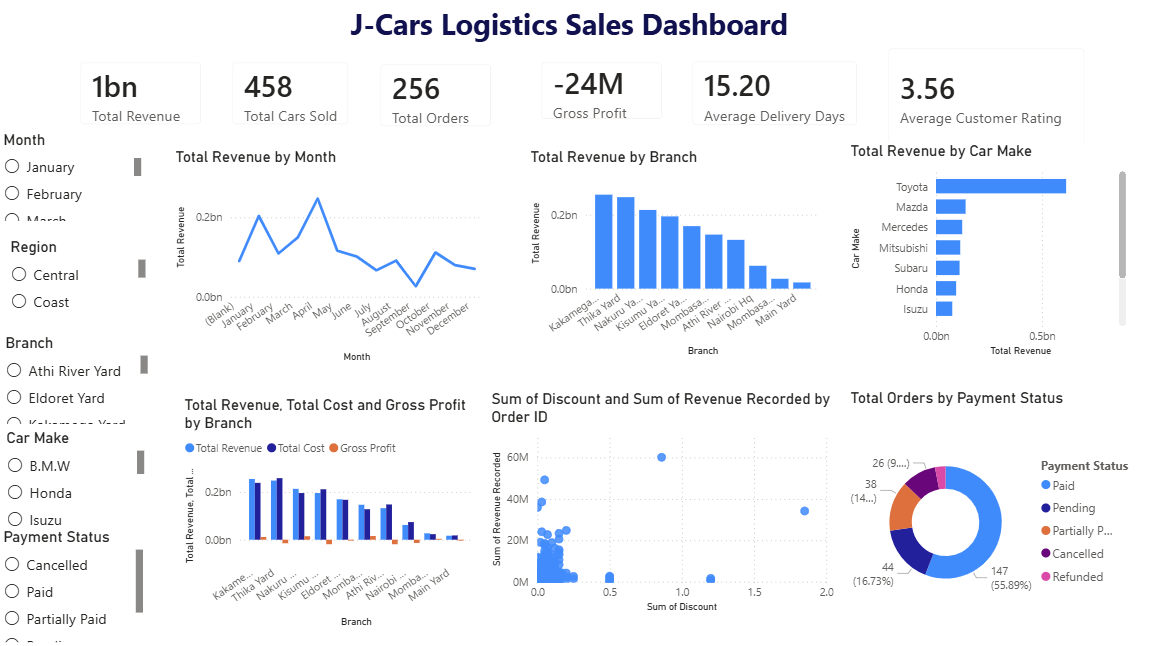

The page's visual inventory and layout, read from the dashboard file:
{"tool":"powerbi","page":{"name":"Dashboard","canvas":[1280,720],"ordinal":4},"visuals":[{"type":"textbox","box":[10,0,1247.5,53.8],"z":0},{"type":"cardVisual","fields":{"Data":["powerbi jcars.Total Revenue"]},"box":[73.8,53.8,168.8,103.8],"z":1000},{"type":"cardVisual","fields":{"Data":["powerbi jcars.Total Cars Sold"]},"box":[242.5,53.8,163.8,103.8],"z":2000},{"type":"cardVisual","fields":{"Data":["powerbi jcars.Total Orders"]},"box":[406.2,55,157.5,103.8],"z":3000},{"type":"cardVisual","fields":{"Data":["powerbi jcars.Gross Profit"]},"box":[585,53.8,168.8,97.5],"z":4000},{"type":"cardVisual","fields":{"Data":["powerbi jcars.Average Delivery Days"]},"box":[753.8,52.5,217.5,105],"z":5000},{"type":"cardVisual","fields":{"Data":["powerbi jcars.Average Customer Rating"]},"box":[971.1,37.8,252.2,140],"z":6000},{"type":"listSlicer","fields":{"Values":["powerbi jcars.Region"]},"box":[7.5,265,160,95],"z":7000},{"type":"listSlicer","fields":{"Values":["powerbi jcars.Branch"]},"box":[2.5,372.5,168.8,105],"z":8000},{"type":"listSlicer","fields":{"Values":["powerbi jcars.Car Make"]},"box":[3.8,477.5,163.8,118.8],"z":9000},{"type":"listSlicer","fields":{"Values":["powerbi jcars.Order Date 1.Variation.Date Hierarchy.Month"]},"box":[0,146.2,163.8,105],"z":10000},{"type":"listSlicer","fields":{"Values":["powerbi jcars.Payment Status"]},"box":[0,587.5,165,132.5],"z":11000},{"type":"barChart","fields":{"Category":["powerbi jcars.Car Make"],"Y":["powerbi jcars.Total Revenue"]},"box":[941.2,158.8,316.2,242.5],"z":12000},{"type":"clusteredColumnChart","fields":{"Category":["powerbi jcars.Branch"],"Y":["powerbi jcars.Total Revenue","powerbi jcars.Total Cost","powerbi jcars.Gross Profit"]},"box":[201.2,441.2,330,261.2],"z":13000},{"type":"donutChart","fields":{"Y":["powerbi jcars.Total Orders"],"Category":["powerbi jcars.Payment Status"]},"box":[941.2,433.8,326.2,277.5],"z":14000},{"type":"lineChart","fields":{"Category":["powerbi jcars.Order Date 1.Variation.Date Hierarchy.Month"],"Y":["powerbi jcars.Total Revenue"]},"box":[191.1,165.6,351.1,242.2],"z":15000},{"type":"columnChart","fields":{"Y":["powerbi jcars.Total Revenue"],"Category":["powerbi jcars.Branch"]},"box":[585,165,331.2,236.2],"z":16000},{"type":"scatterChart","fields":{"X":["Sum(powerbi jcars.Discount)"],"Y":["Sum(powerbi jcars.Revenue Recorded)"],"Category":["powerbi jcars.Order ID"]},"box":[542,434,390,252],"z":17000}]}

Visuals, with their boxes in screenshot pixels (x1, y1, x2, y2), scaled from the page's 1280x720 canvas onto the 1149x646 screenshot:
textbox: x1=9 y1=0 x2=1129 y2=48
cardVisual - powerbi jcars.Total Revenue: x1=66 y1=48 x2=218 y2=141
cardVisual - powerbi jcars.Total Cars Sold: x1=218 y1=48 x2=365 y2=141
cardVisual - powerbi jcars.Total Orders: x1=365 y1=49 x2=506 y2=142
cardVisual - powerbi jcars.Gross Profit: x1=525 y1=48 x2=677 y2=136
cardVisual - powerbi jcars.Average Delivery Days: x1=677 y1=47 x2=872 y2=141
cardVisual - powerbi jcars.Average Customer Rating: x1=872 y1=34 x2=1098 y2=160
listSlicer - powerbi jcars.Region: x1=7 y1=238 x2=150 y2=323
listSlicer - powerbi jcars.Branch: x1=2 y1=334 x2=154 y2=428
listSlicer - powerbi jcars.Car Make: x1=3 y1=428 x2=150 y2=535
listSlicer - powerbi jcars.Order Date 1.Variation.Date Hierarchy.Month: x1=0 y1=131 x2=147 y2=225
listSlicer - powerbi jcars.Payment Status: x1=0 y1=527 x2=148 y2=645
barChart - powerbi jcars.Car Make x powerbi jcars.Total Revenue: x1=845 y1=142 x2=1129 y2=360
clusteredColumnChart - powerbi jcars.Branch x powerbi jcars.Total Revenue: x1=181 y1=396 x2=477 y2=630
donutChart - powerbi jcars.Total Orders x powerbi jcars.Payment Status: x1=845 y1=389 x2=1138 y2=638
lineChart - powerbi jcars.Order Date 1.Variation.Date Hierarchy.Month x powerbi jcars.Total Revenue: x1=172 y1=149 x2=487 y2=366
columnChart - powerbi jcars.Total Revenue x powerbi jcars.Branch: x1=525 y1=148 x2=822 y2=360
scatterChart - Sum(powerbi jcars.Discount) x Sum(powerbi jcars.Revenue Recorded): x1=487 y1=389 x2=837 y2=615
